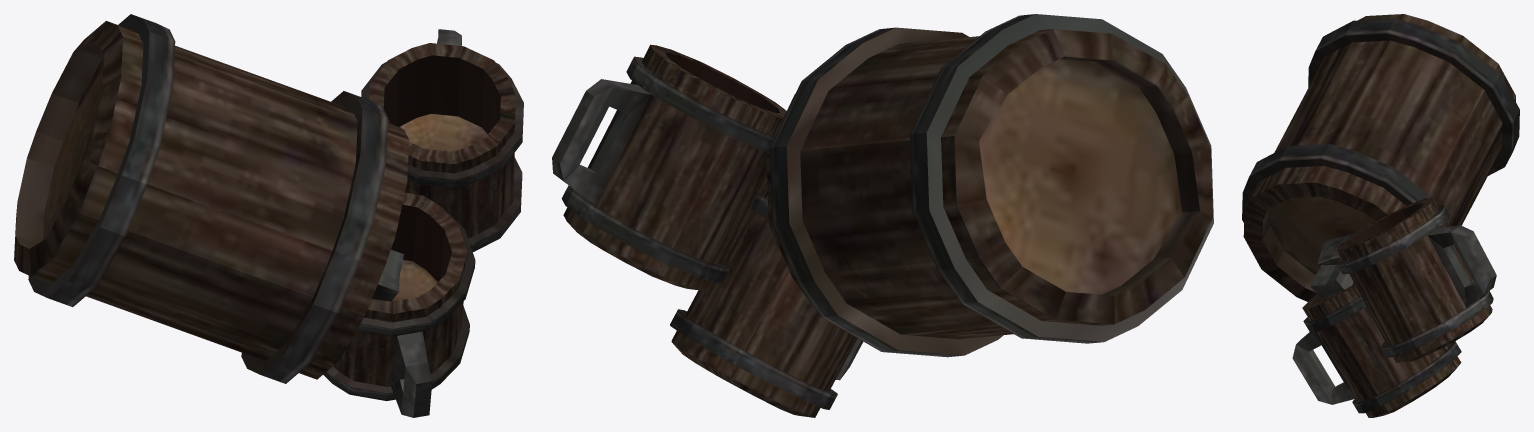
The model's file is STATIC_PIWO.glb.
3 views of the same model, side by side, from view 1: azimuth 30°, elevation 25°; view 2: azimuth 150°, elevation 25°; view 3: azimuth 270°, elevation 25° (orthographic). The views are drawn at different scales.
Visible parts, largest first — view 1: STATIC_PIWO; view 2: STATIC_PIWO; view 3: STATIC_PIWO.
Part boxes in pixels (x1,y1,x2,y2): STATIC_PIWO: (14, 14, 523, 417); STATIC_PIWO: (552, 14, 1213, 417); STATIC_PIWO: (1242, 14, 1519, 417).
Bounding box in the file's own units: 0.4113 × 0.3153 × 0.2574.
Materials: 1 (1 with a texture image).
